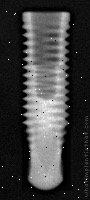Neodent: (20, 11, 71, 191)
